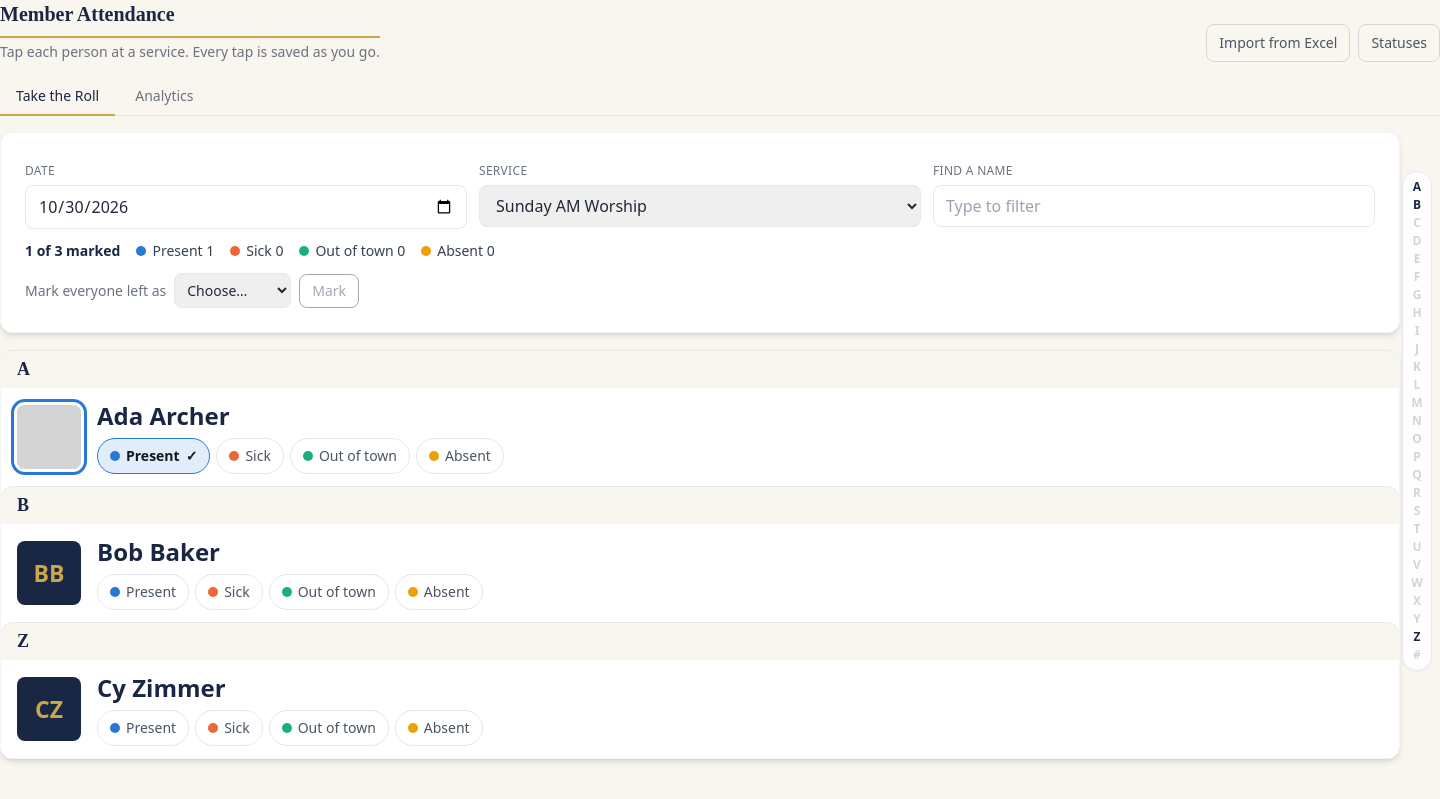
Test: analytics › shows the whole congregation, then one member picked from the dropdown
Expected: the button "Ada Archer" is shown, [97, 400, 230, 432]
Click the tab "Analytics" at (164, 97), box [119, 78, 210, 116]
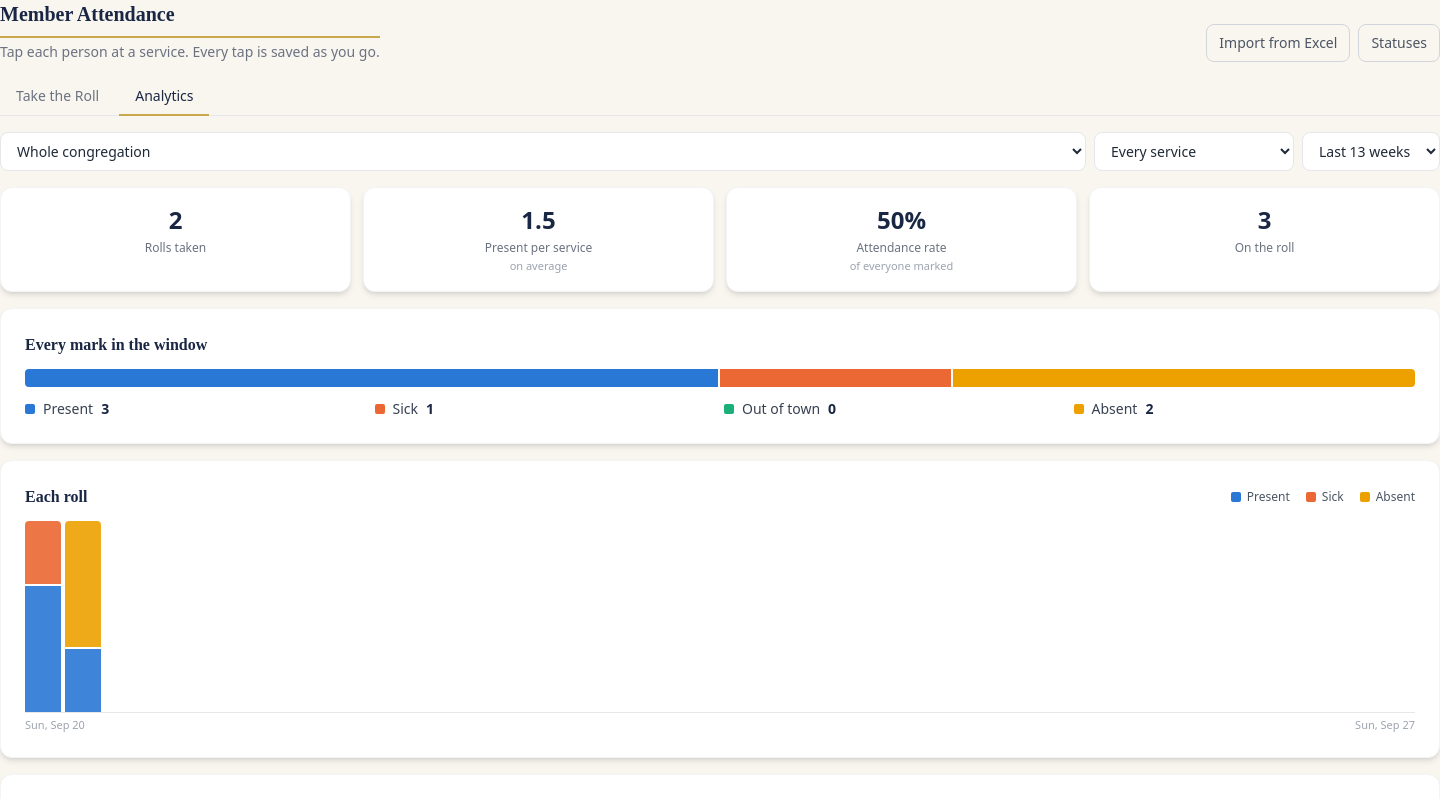
Expected: the text "Rolls taken" is shown, [145, 239, 206, 256]
Expected: the text "50%" is shown, [877, 203, 926, 236]
Select "Bob Baker" in the dropdown named "Member" at (543, 152), box [0, 132, 1086, 171]
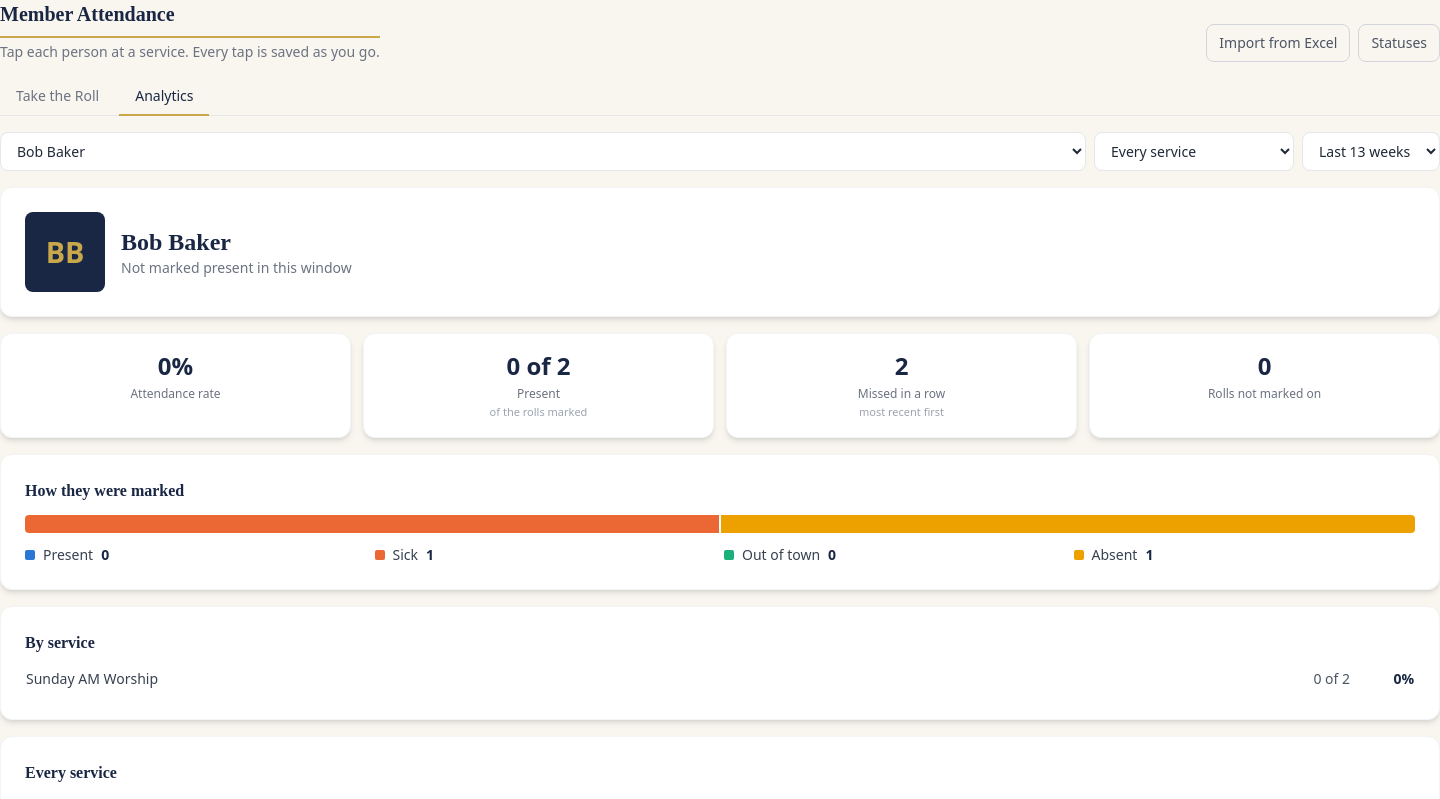
Expected: the heading "Bob Baker" is shown, [121, 229, 231, 255]
Expected: the text "Missed in a row" is shown, [858, 385, 945, 402]
Expected: the text "Not marked present in this window" is shown, [121, 258, 352, 278]
